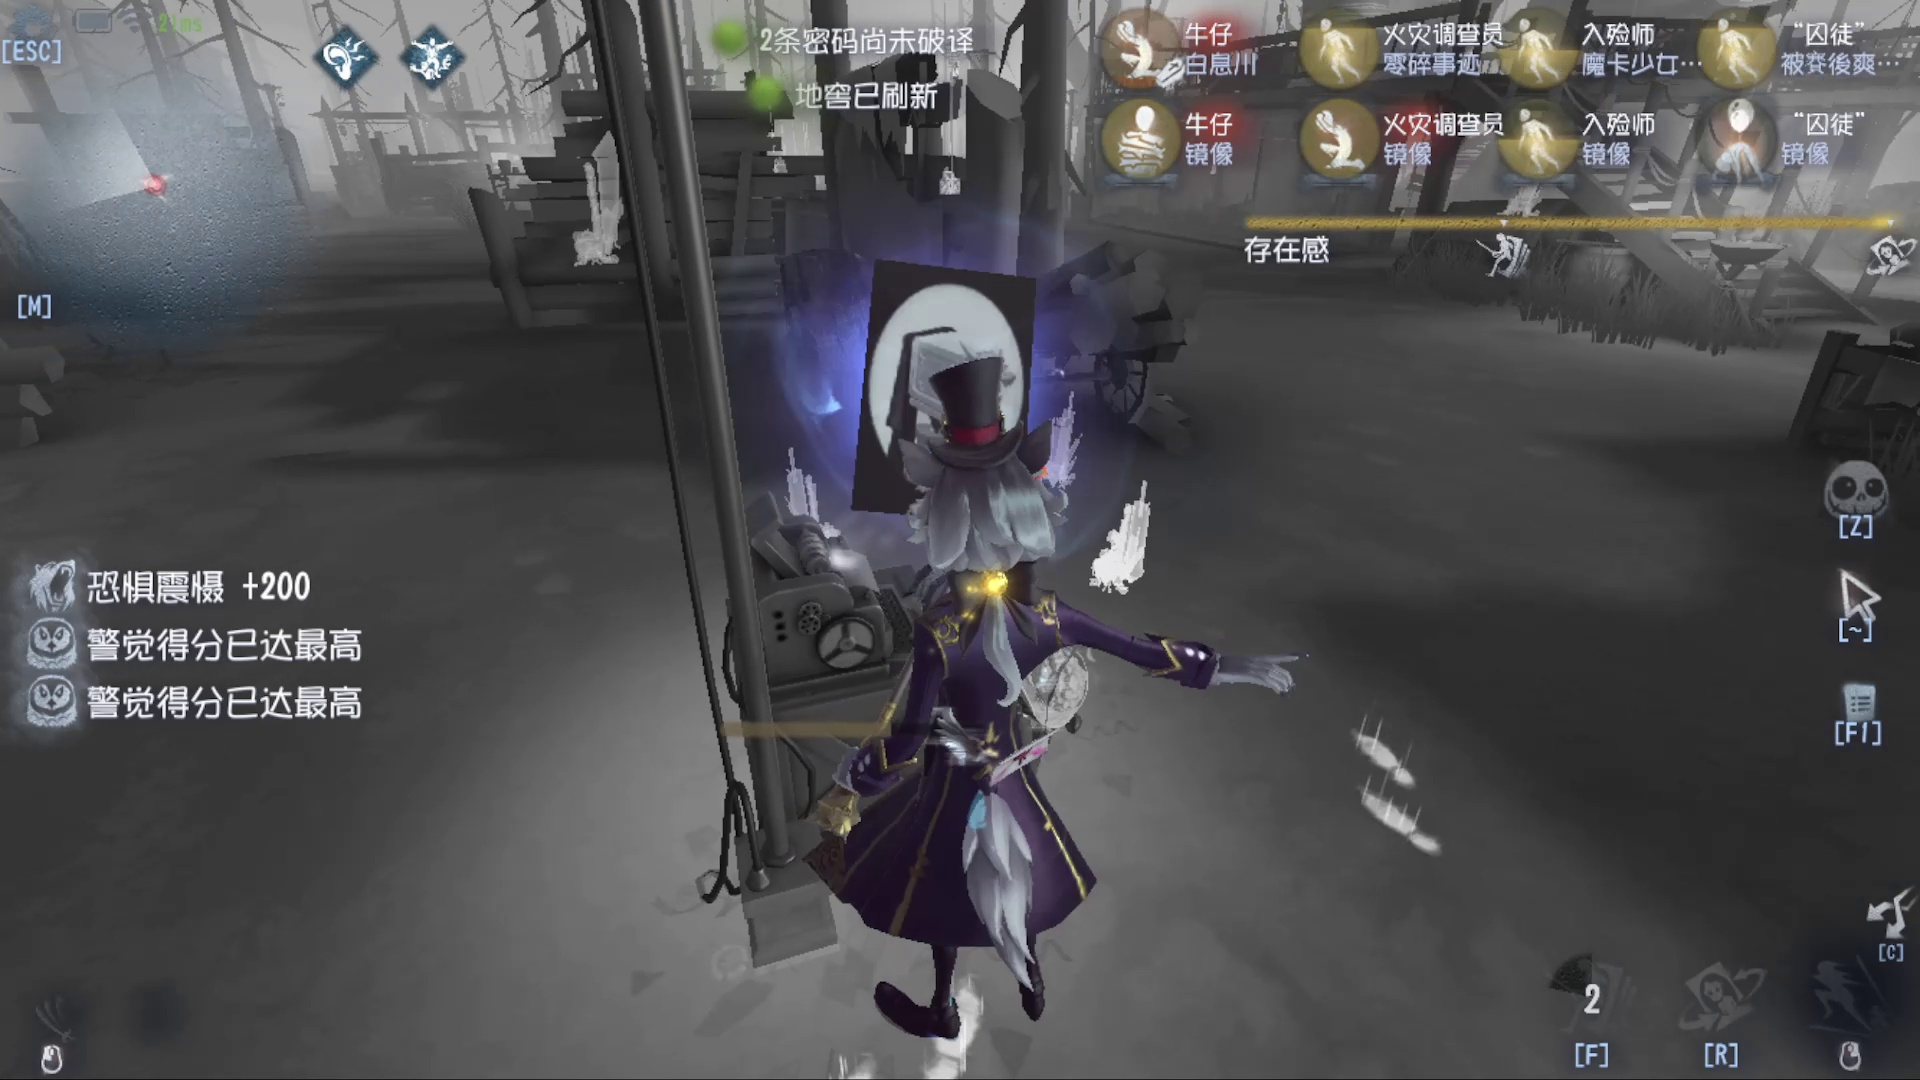狂欢之椅: (620, 465, 982, 796), (541, 109, 642, 272)
